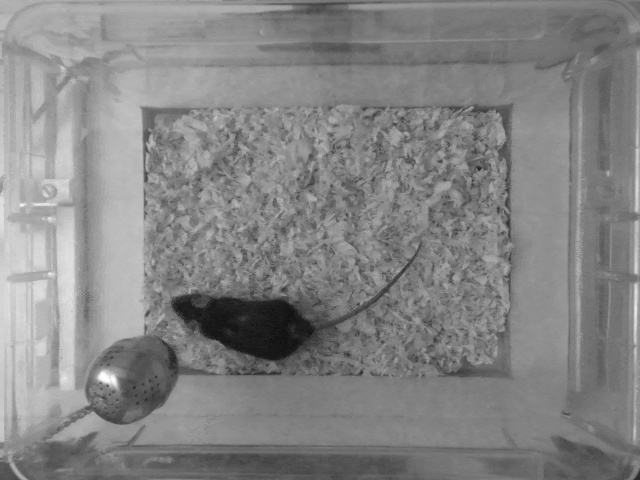mice: (168, 238, 426, 360)
